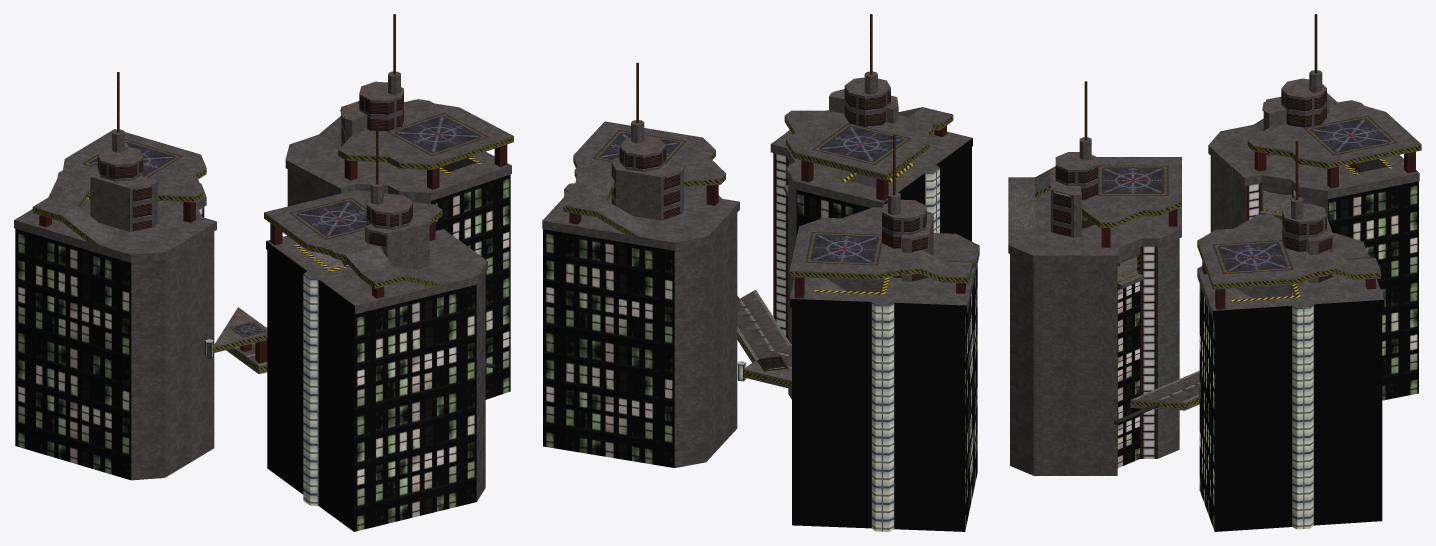
Rendered from morpheus.fbx.
3 renders of one model, left to right at view 1: azimuth 30°, elevation 25°; view 2: azimuth 150°, elevation 25°; view 3: azimuth 270°, elevation 25°, orthographic. The views are drawn at different scales.
Visible parts, largest first — view 1: dm-morph.001, dm-morph.004, dm-morph.003, dm-morph.002; view 2: dm-morph.003, dm-morph.004, dm-morph.001, dm-morph.002; view 3: dm-morph.003, dm-morph.001, dm-morph.004, dm-morph.002.
Boxes of the visible parts, x1,y1,x2,y2 form: dm-morph.001: [264, 124, 487, 531]; dm-morph.004: [14, 72, 216, 480]; dm-morph.003: [285, 14, 513, 399]; dm-morph.002: [205, 307, 495, 373]; dm-morph.003: [542, 62, 739, 467]; dm-morph.004: [789, 134, 979, 531]; dm-morph.001: [770, 14, 972, 399]; dm-morph.002: [737, 289, 791, 389]; dm-morph.003: [1197, 141, 1384, 531]; dm-morph.001: [1008, 81, 1181, 475]; dm-morph.004: [1208, 14, 1421, 400]; dm-morph.002: [1114, 370, 1199, 424].
Size of the model in its own units: 34881 by 28140 by 29691.
